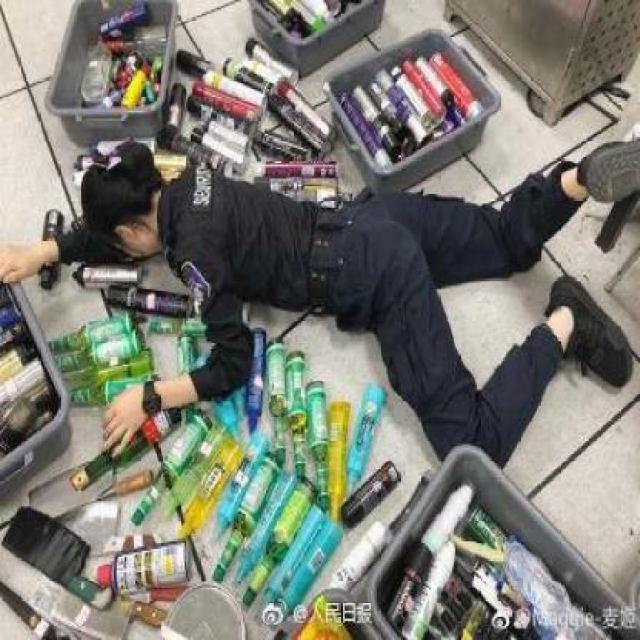fall: (0, 104, 638, 467)
